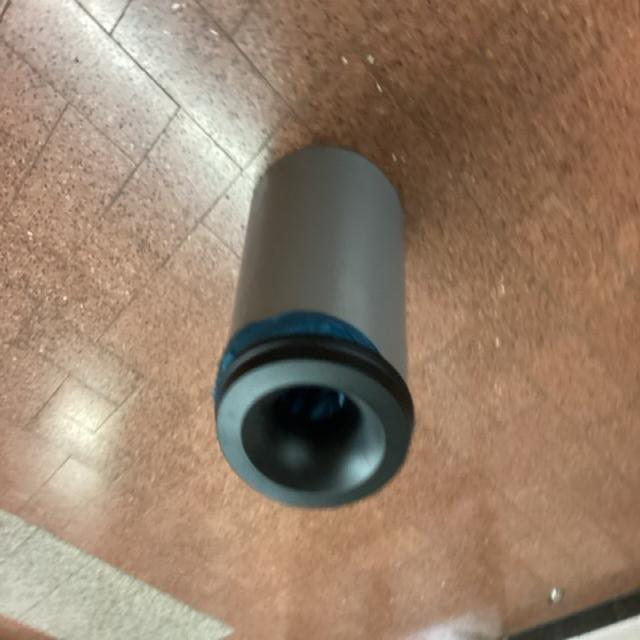garbage container: (204, 134, 429, 531)
